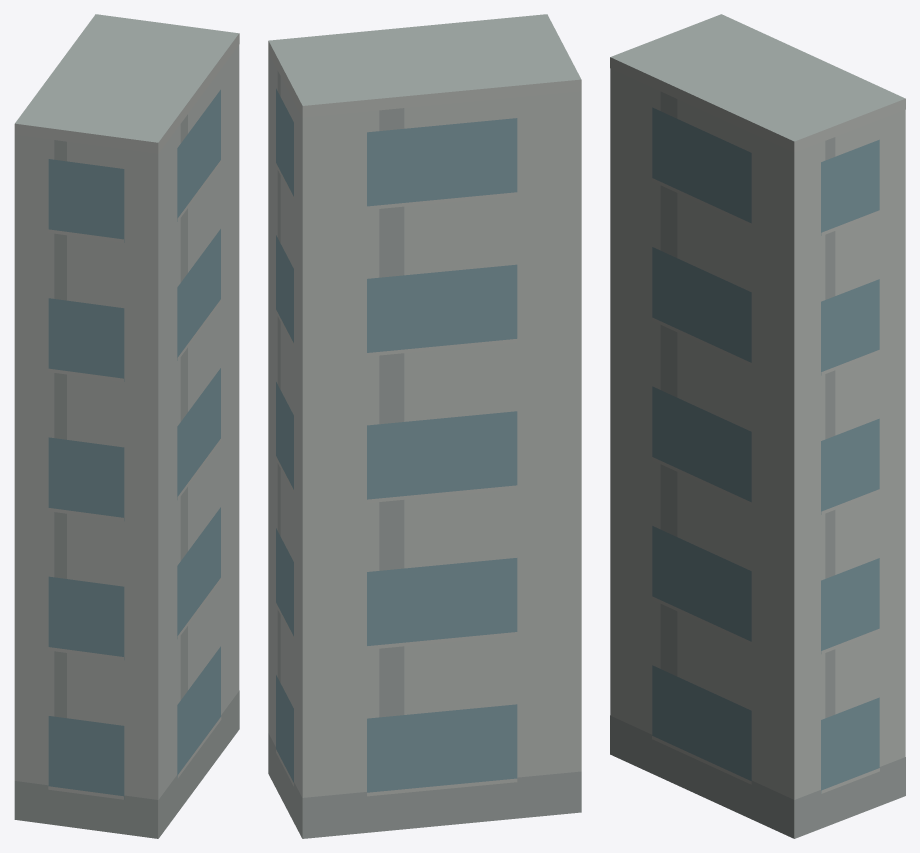
The model's file is survey-upis-32916050.glb.
The picture shows the model from 3 angles, left to right: view 1: azimuth 30°, elevation 25°; view 2: azimuth 150°, elevation 25°; view 3: azimuth 270°, elevation 25°; orthographic projection. The views are drawn at different scales.
Visible parts, largest first — view 1: survey-upis-32916050.tmp; view 2: survey-upis-32916050.tmp; view 3: survey-upis-32916050.tmp.
Part boxes in pixels (box(x1,y1,x2,y2)): survey-upis-32916050.tmp: box(14, 14, 239, 838); survey-upis-32916050.tmp: box(268, 14, 581, 838); survey-upis-32916050.tmp: box(610, 14, 905, 838).
Size of the model in its own units: 5.99 by 15.25 by 5.87.
